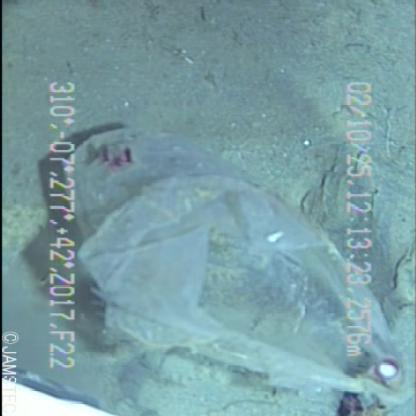Rác: (46, 113, 408, 411)
